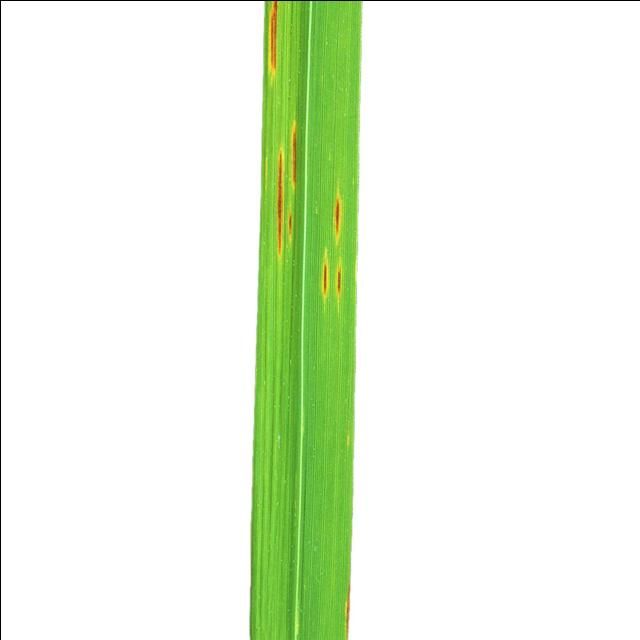Narrow brown: (154, 0, 439, 640)
